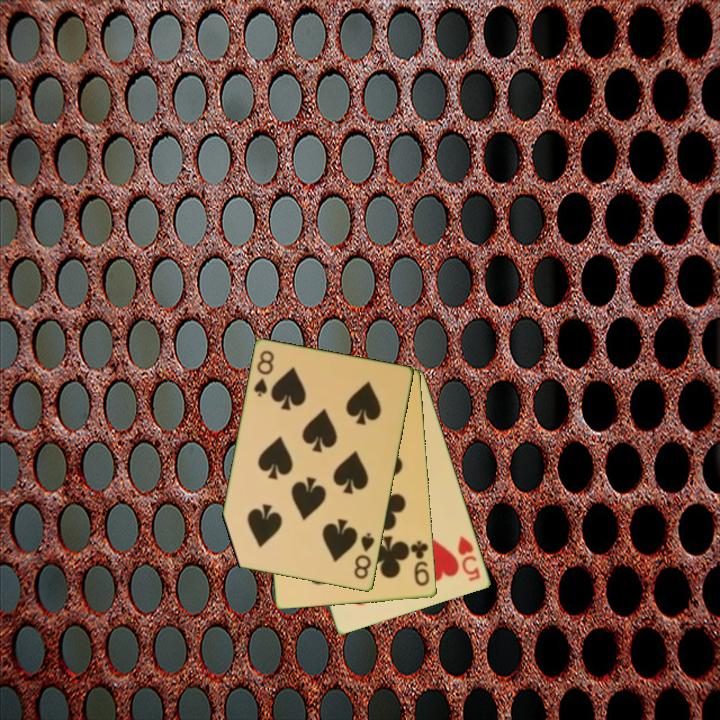5h: (454, 532, 484, 584)
8s: (351, 529, 378, 582), (250, 347, 277, 400)
9c: (407, 538, 433, 589)
